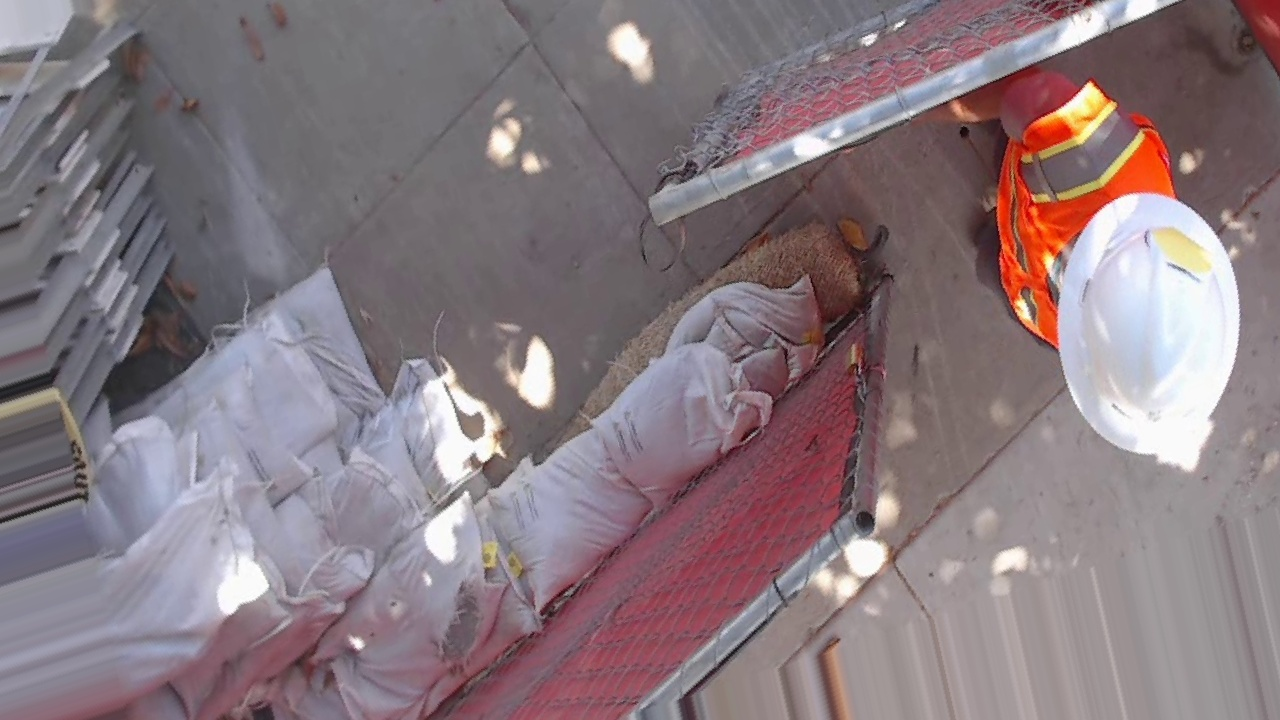hardhat: (1061, 193, 1243, 457)
person: (989, 66, 1280, 457)
safetyvest: (1001, 80, 1207, 368)
yellow: (1142, 226, 1222, 296)
